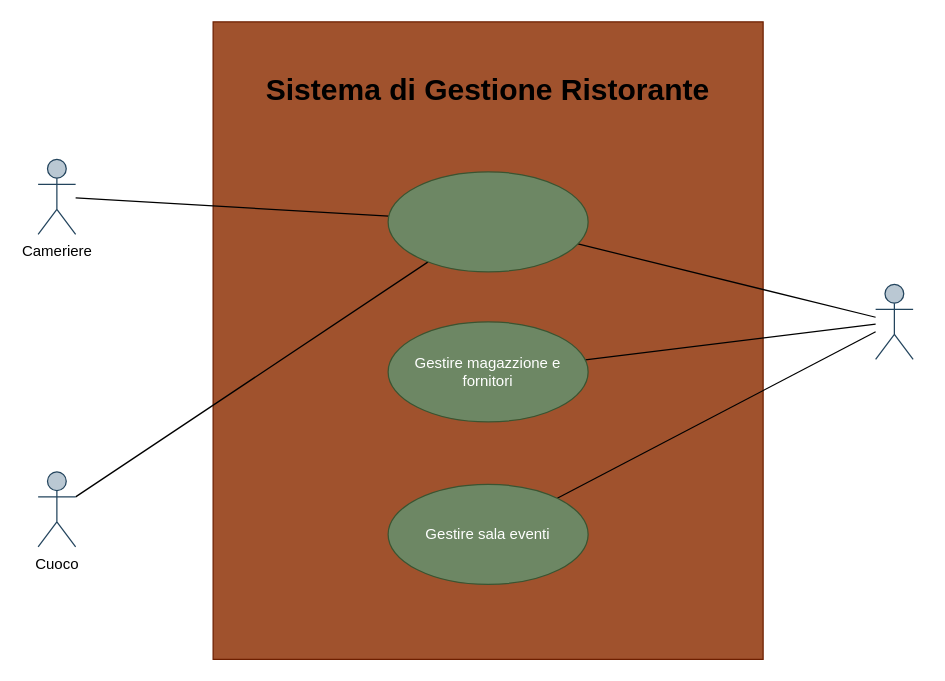
This 945x681 diagram has some shape labels left out. The box of each missing label's shape, as (x1, y1, x2, y2) in pixels:
gestire ordinazioni: (387, 171, 588, 272)
Manager: (874, 283, 913, 359)
